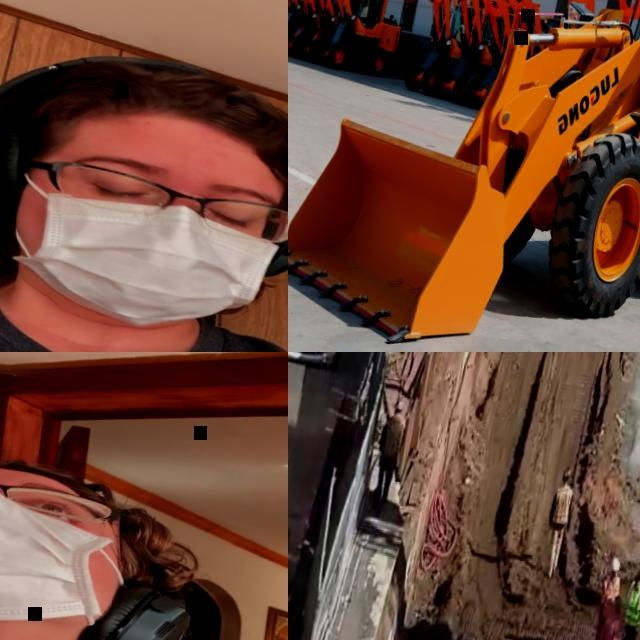Hardhat: (6, 34, 288, 178), (610, 557, 623, 573), (562, 467, 575, 481), (394, 400, 406, 411), (635, 568, 640, 581)
Mask: (0, 173, 288, 342), (0, 465, 150, 640)
NO-Hardhat: (0, 439, 171, 511)
NO-Safety Vest: (0, 250, 288, 352)
Person: (0, 0, 288, 352), (0, 399, 288, 640), (539, 464, 580, 581), (369, 398, 410, 502), (588, 555, 626, 640), (583, 593, 636, 640), (610, 566, 640, 640)
Safety Vest: (552, 486, 574, 525), (600, 611, 626, 640), (622, 585, 640, 626), (602, 576, 622, 604)
machinery: (288, 0, 640, 352), (459, 0, 552, 115), (425, 0, 524, 107), (401, 0, 492, 102), (298, 0, 411, 78), (288, 0, 366, 64), (492, 0, 560, 61), (288, 0, 341, 58), (288, 0, 310, 52)
